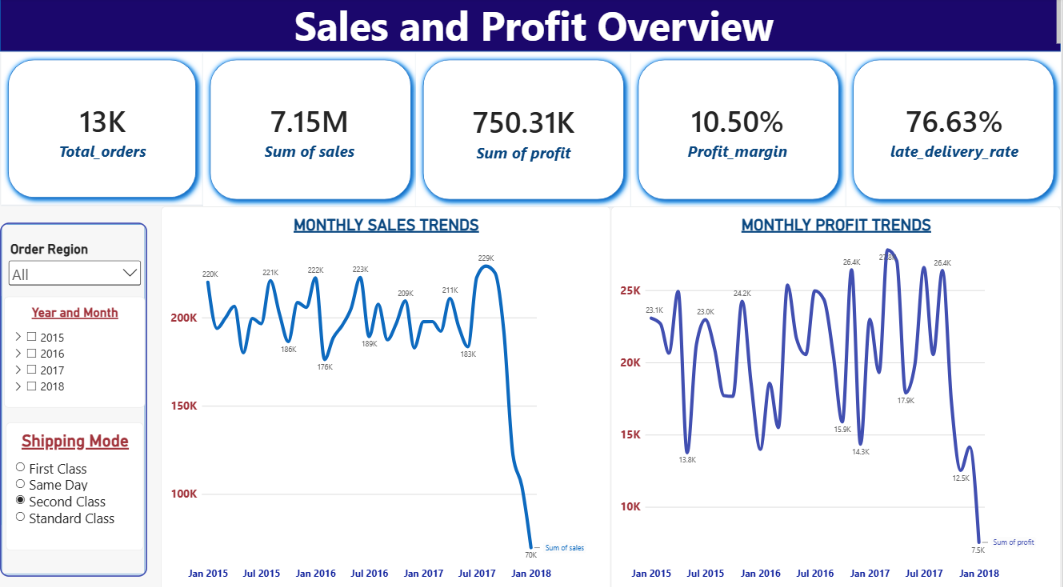

What the dashboard file says about the page in this screenshot:
{"tool":"powerbi","page":{"name":"Overview","canvas":[1920,1080],"ordinal":0},"visuals":[{"type":"shape","box":[0,406.9,266.2,640.6],"z":0},{"type":"shape","box":[0,0,1919.6,97.4],"z":1000},{"type":"shape","box":[1.8,99.5,365.6,275.1],"z":2000},{"type":"card","fields":{"Values":["supply_chain customers.Total_orders"]},"box":[44.8,130.1,280.5,219],"z":3000},{"type":"shape","box":[367.4,99.5,389.1,278.7],"z":4000},{"type":"shape","box":[752.8,99.5,389.1,278.7],"z":5000},{"type":"shape","box":[1141.9,99.5,389.1,278.7],"z":6000},{"type":"shape","box":[1531,99.5,389.1,278.7],"z":7000},{"type":"card","fields":{"Values":["Sum(supply_chain order_items.sales)"]},"box":[420.3,130.1,280.5,219],"z":8000},{"type":"card","fields":{"Values":["Sum(supply_chain order_items.profit)"]},"box":[806.4,132.3,280.5,219],"z":9000},{"type":"card","fields":{"Values":["supply_chain order_items.Profit_margin"]},"box":[1194.7,130.1,280.5,219],"z":10000},{"type":"card","fields":{"Values":["supply_chain shipping.late_delivery_rate"]},"box":[1587.2,130.1,280.5,219],"z":11000},{"type":"lineChart","title":"MONTHLY PROFIT TRENDS","fields":{"Category":["supply_chain orders.order_date.Variation.Date Hierarchy.Year","supply_chain orders.order_date.Variation.Date Hierarchy.Month"],"Y":["Sum(supply_chain order_items.profit)"]},"box":[1105.9,378.7,813.7,696.9],"z":13000},{"type":"textbox","box":[19.5,0,1900.1,97.4],"z":14000},{"type":"slicer","title":"REGION","fields":{"Values":["supply_chain orders.order_region"]},"box":[10.8,441.5,248.9,99.6],"z":15000},{"type":"listSlicer","title":"Year and Month","fields":{"Values":["supply_chain orders.order_date.Variation.Date Hierarchy.Year","supply_chain orders.order_date.Variation.Date Hierarchy.Month"]},"box":[6.5,541,255.2,200.9],"z":16000},{"type":"lineChart","title":"MONTHLY SALES TRENDS","fields":{"Category":["supply_chain orders.order_date.Variation.Date Hierarchy.Year","supply_chain orders.order_date.Variation.Date Hierarchy.Month"],"Y":["Sum(supply_chain order_items.sales)"]},"box":[291.4,378.2,813.7,696.9],"z":16001},{"type":"listSlicer","title":"Shipping Mode","fields":{"Values":["supply_chain shipping.shipping_mode"]},"box":[10.8,768.3,248.9,231.6],"z":16002}]}

Visuals, with their boxes in screenshot pixels (x1, y1, x2, y2), scaled from the page's 1920x1080 canvas onto the 1063x587 screenshot:
shape: [0, 221, 147, 569]
shape: [0, 0, 1062, 53]
shape: [1, 54, 203, 204]
card - supply_chain customers.Total_orders: [25, 71, 180, 190]
shape: [203, 54, 419, 206]
shape: [417, 54, 632, 206]
shape: [632, 54, 848, 206]
shape: [848, 54, 1062, 206]
card - Sum(supply_chain order_items.sales): [233, 71, 388, 190]
card - Sum(supply_chain order_items.profit): [446, 72, 602, 191]
card - supply_chain order_items.Profit_margin: [661, 71, 817, 190]
card - supply_chain shipping.late_delivery_rate: [879, 71, 1034, 190]
"MONTHLY PROFIT TRENDS" lineChart: [612, 206, 1062, 585]
textbox: [11, 0, 1062, 53]
"REGION" slicer: [6, 240, 144, 294]
"Year and Month" listSlicer: [4, 294, 145, 403]
"MONTHLY SALES TRENDS" lineChart: [161, 206, 612, 584]
"Shipping Mode" listSlicer: [6, 418, 144, 543]
